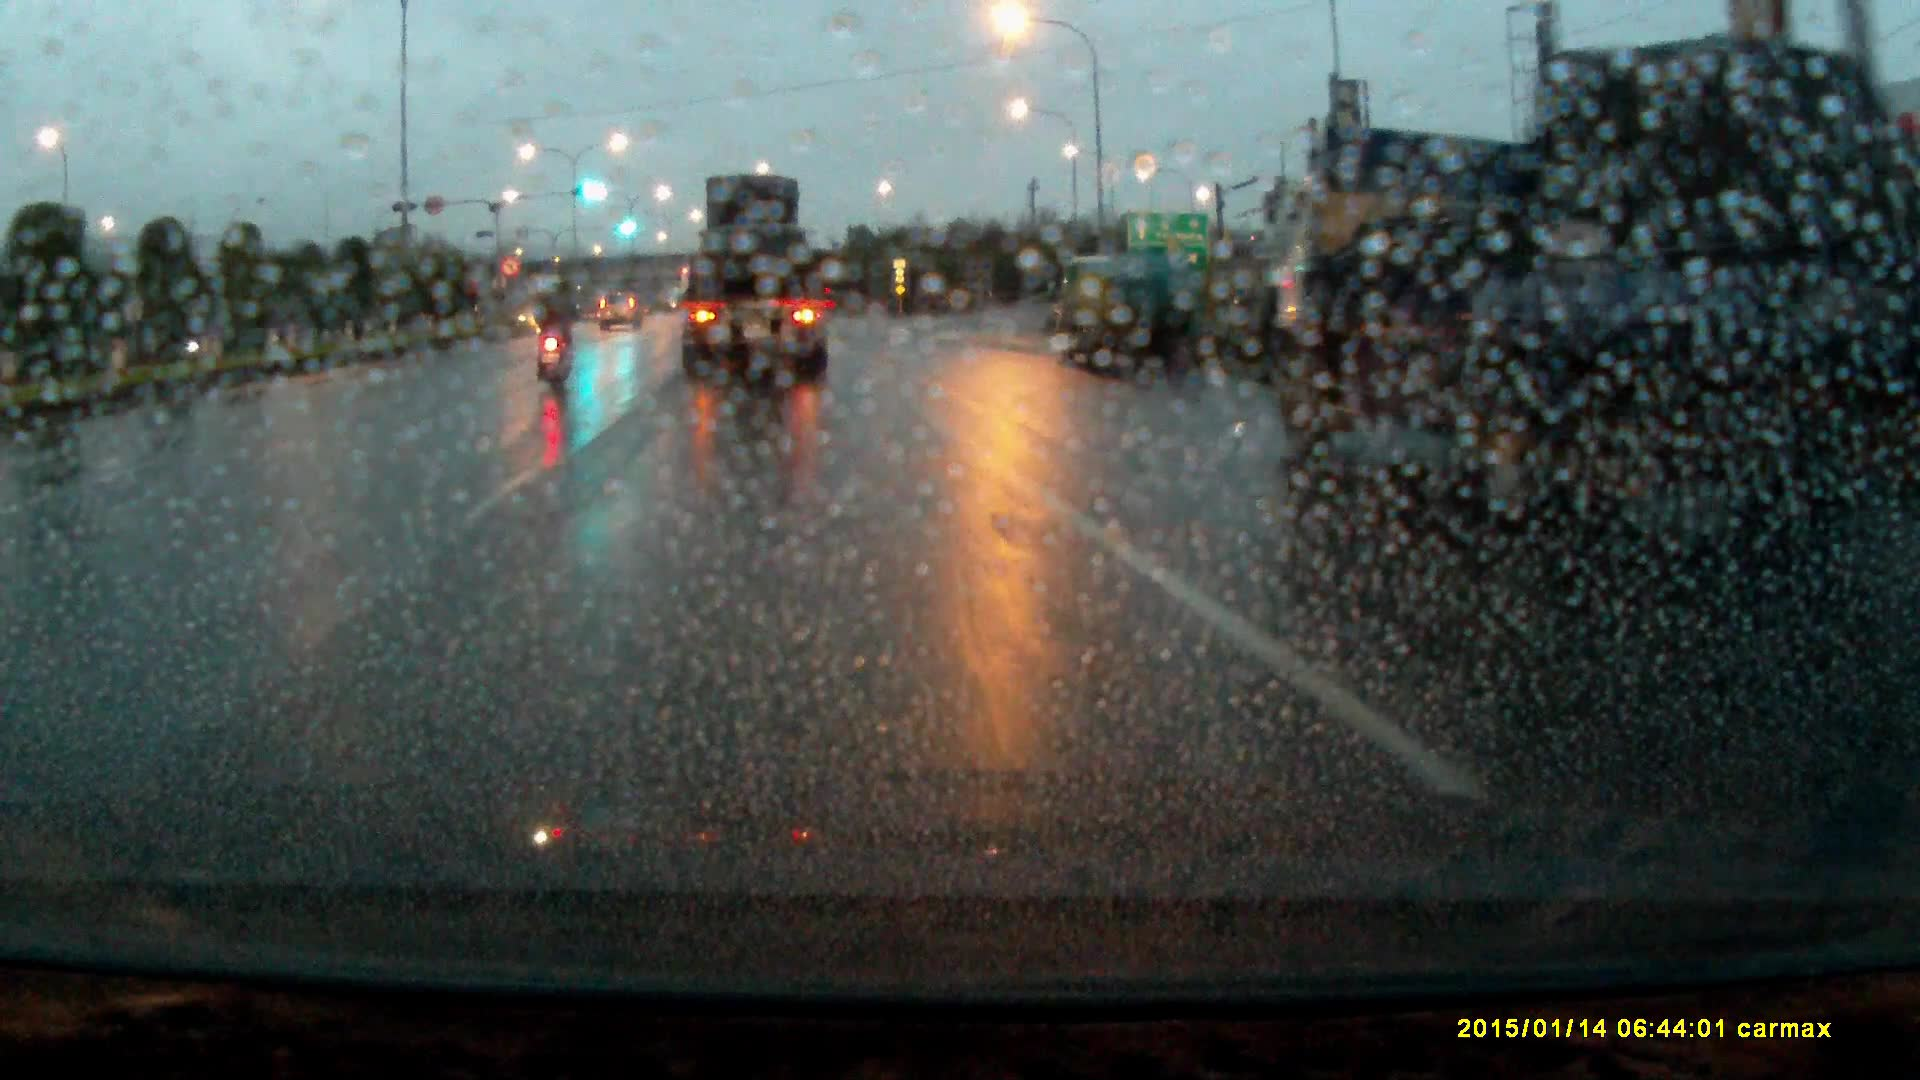rider: (532, 272, 583, 393)
vehicle: (1263, 89, 1903, 550), (674, 171, 832, 389), (1047, 258, 1210, 371), (600, 294, 645, 337)
